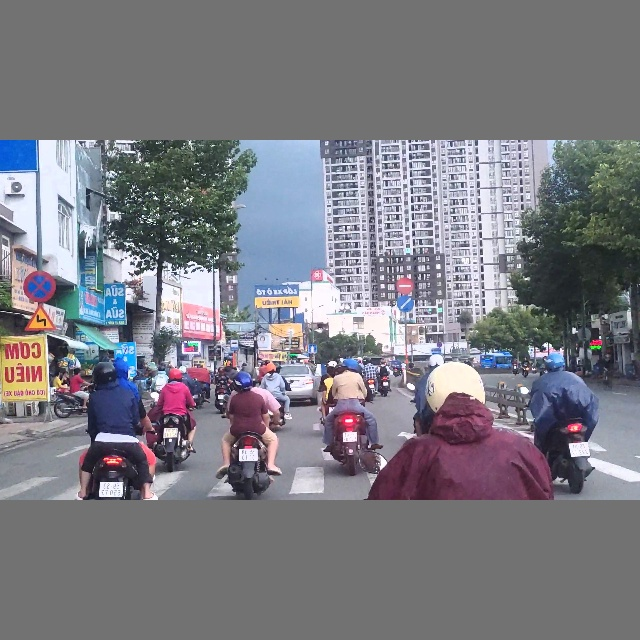I.407a: (307, 344, 317, 354)
I.434a: (230, 339, 239, 351)
P.102: (396, 278, 414, 294)
P.130: (22, 270, 56, 303)
R.302a: (396, 296, 414, 313)
W.202b: (24, 304, 57, 332)
